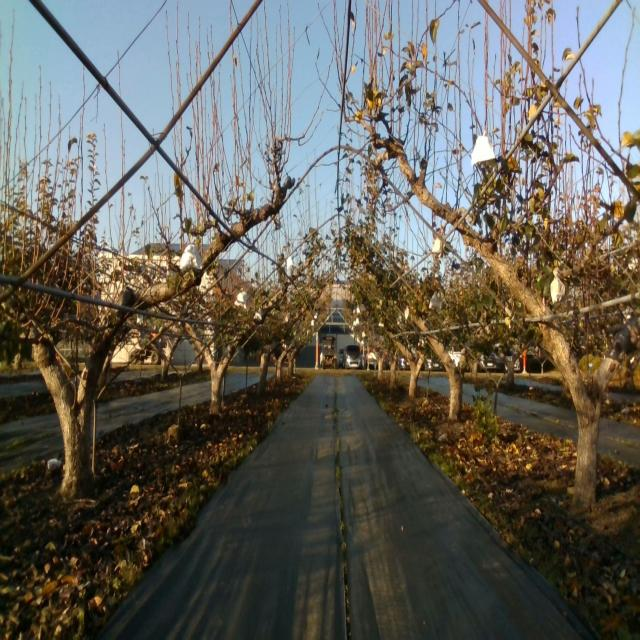pearbags: (471, 130, 496, 166), (178, 237, 203, 270), (550, 268, 564, 304), (234, 287, 247, 310), (429, 293, 442, 311)
